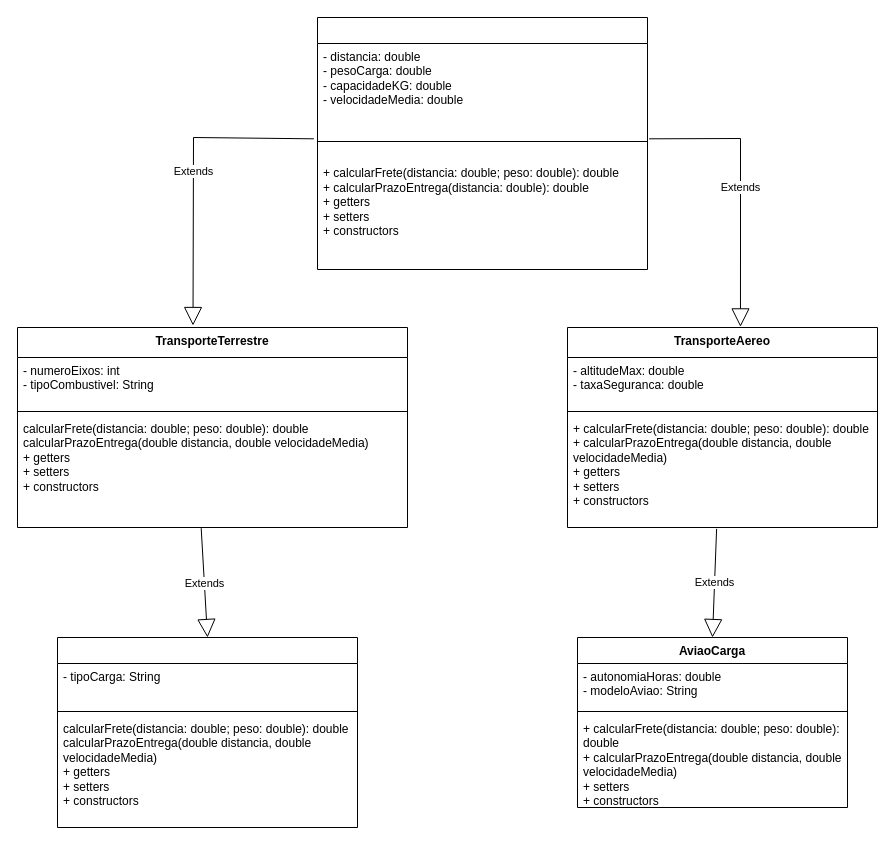
This 895x848 diagram has some shape labels left out. Here are the shapes that lost their labels. From the top down, the box of each, then its label:
(316, 16, 648, 270): Transporte
(56, 636, 358, 828): Caminhao
